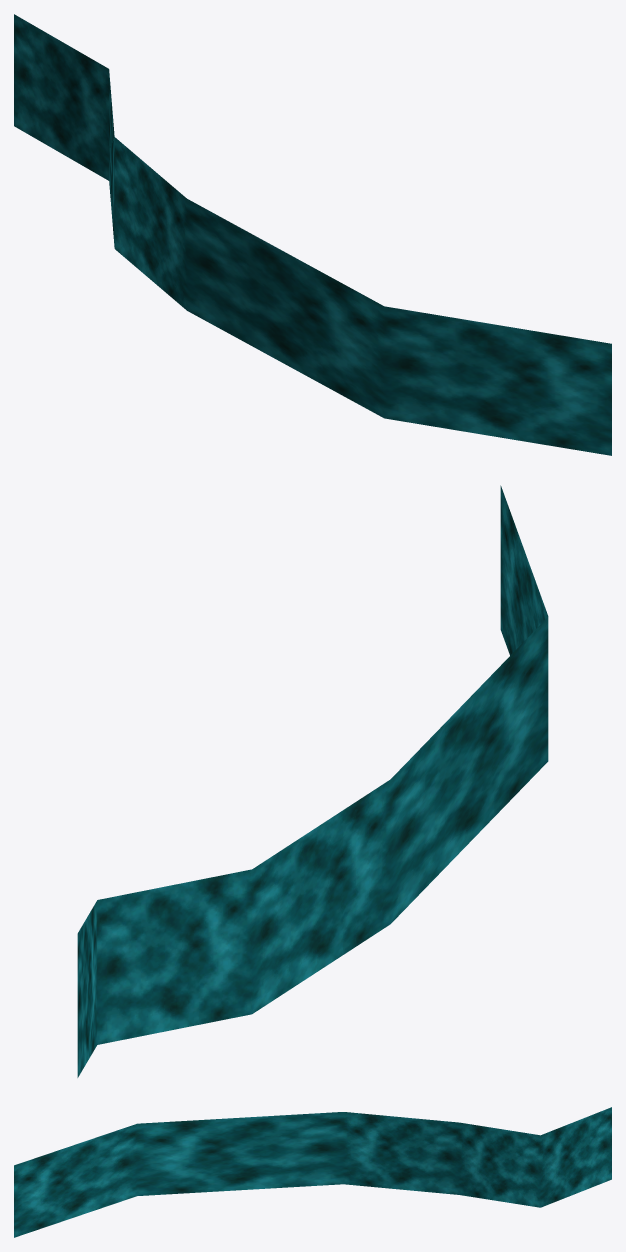
The model's file is MIRKWOOD_FOGG.fbx.
3 renders of one model, top to bottom at view 1: azimuth 30°, elevation 25°; view 2: azimuth 150°, elevation 25°; view 3: azimuth 270°, elevation 25°, orthographic. The views are drawn at different scales.
Visible parts, largest first — view 1: MIRKWOOD_FOGG; view 2: MIRKWOOD_FOGG; view 3: MIRKWOOD_FOGG.
Boxes of the visible parts, left/top/right/bottom form: MIRKWOOD_FOGG: left=14, top=14, right=611, bottom=455; MIRKWOOD_FOGG: left=77, top=485, right=548, bottom=1077; MIRKWOOD_FOGG: left=14, top=1107, right=611, bottom=1237.
Size of the model in its own units: 131498 by 106838 by 619919.
1 material, 1 textured.
